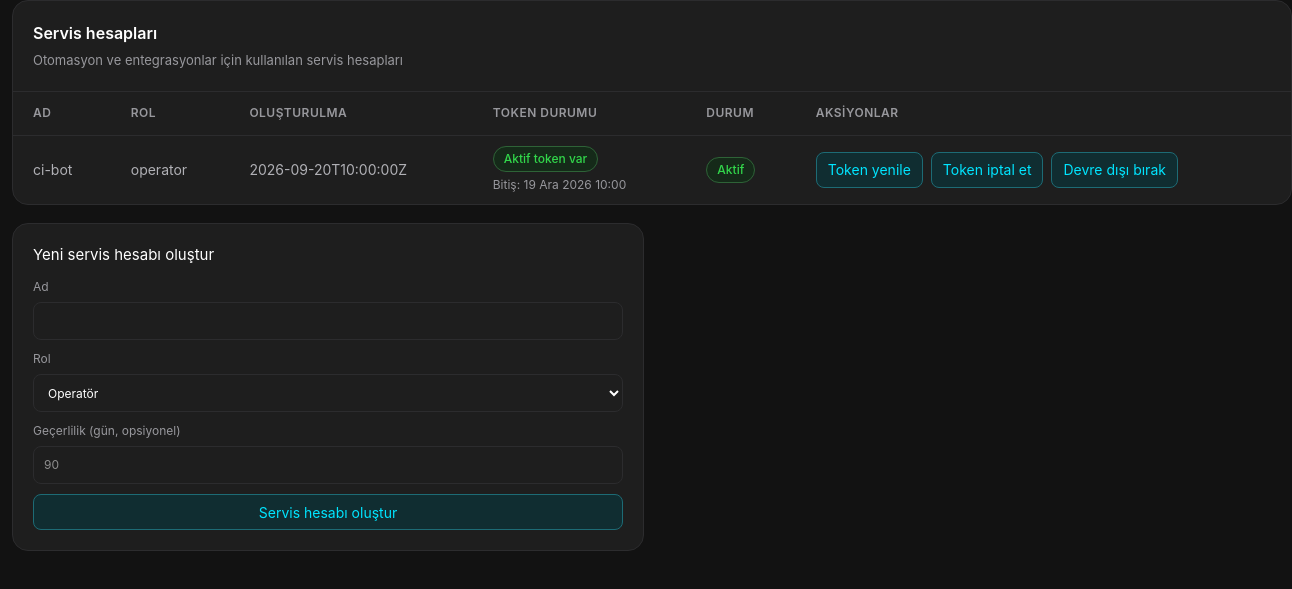
it: SettingsServiceAccountsTab › revokes the active token with a CSRF header and disables the revoke button once none remains
Check: the table named "Servis hesapları" is shown, box [13,92,1291,204]
Click the button "Token iptal et" at {"x": 987, "y": 170}, box [931,152,1043,188]
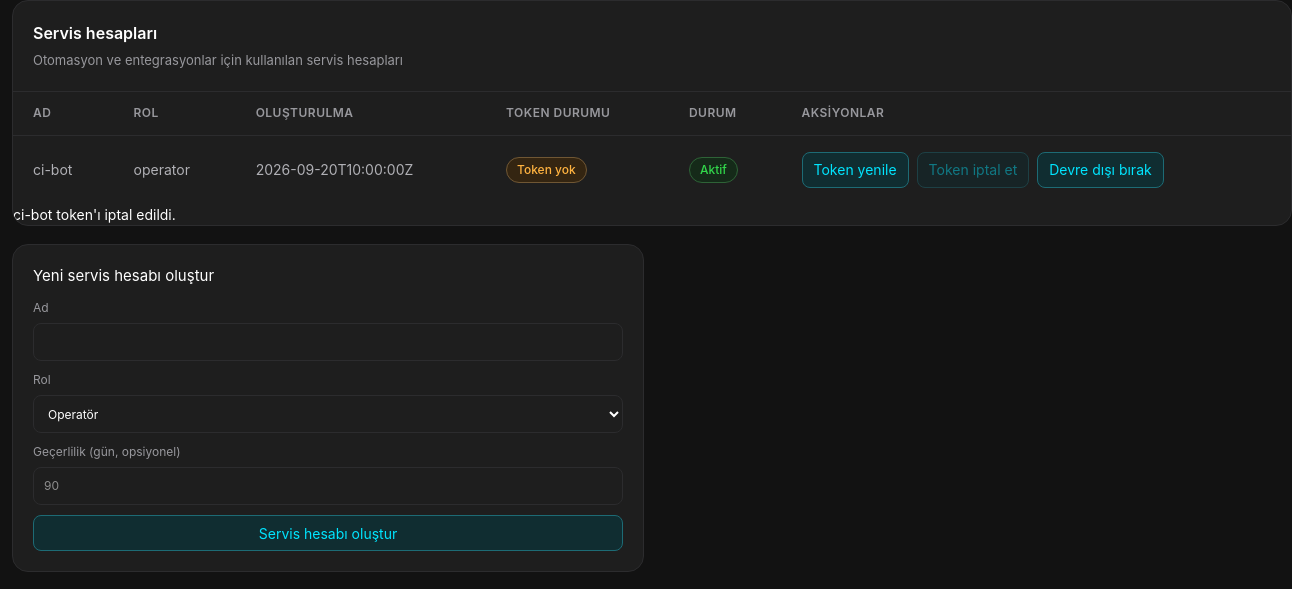
Check: the text "ci-bot token'ı iptal edildi." is shown, box [13,206,176,222]
Check: the button "Token iptal et" is disabled, box [917,152,1029,188]
